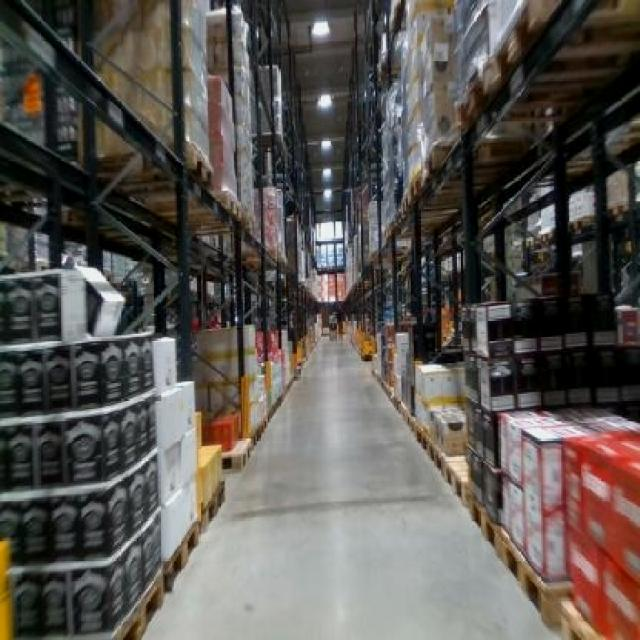pallets: (563, 431, 637, 637)
